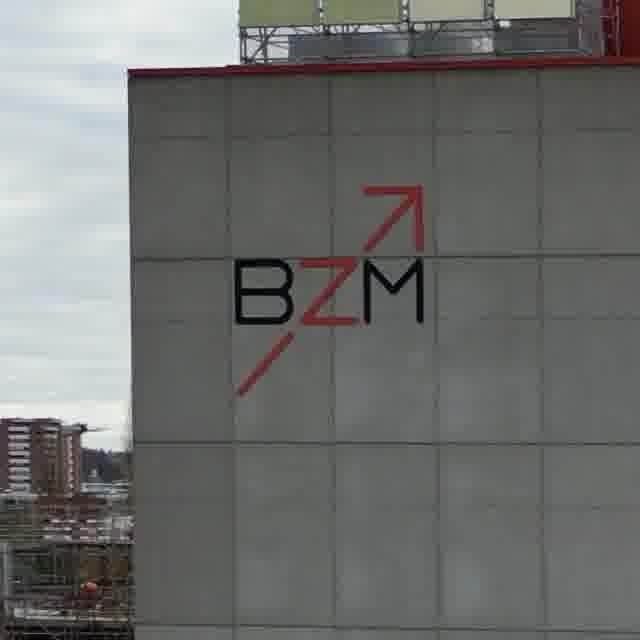Drohne: (61, 422, 109, 434)
